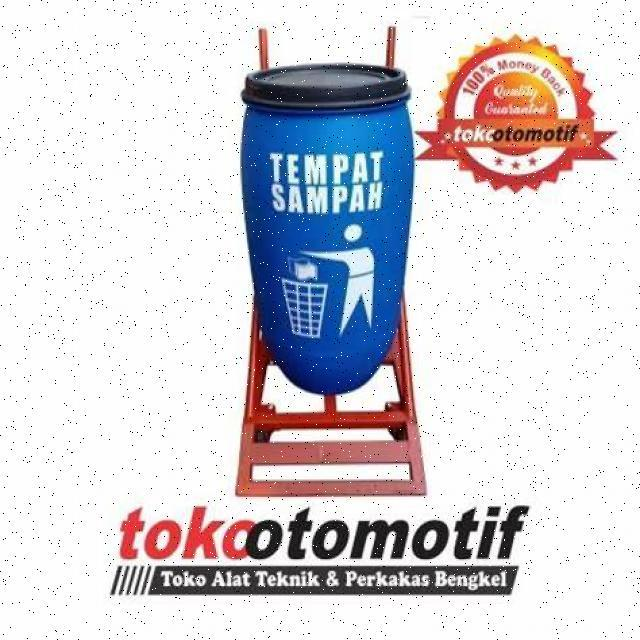garbage container: (232, 29, 426, 393)
